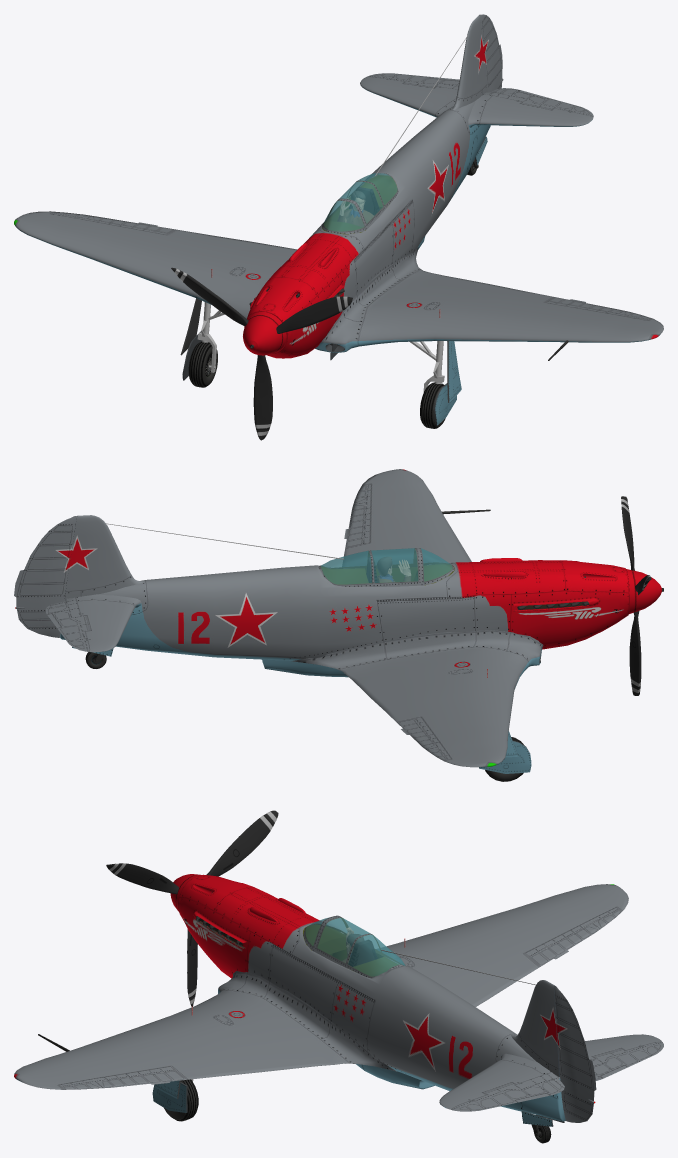
File: yak3.glb
3 renders of one model, top to bottom at view 1: azimuth 30°, elevation 25°; view 2: azimuth 150°, elevation 25°; view 3: azimuth 270°, elevation 25°, orthographic. The views are drawn at different scales.
Parts seen in each view (by area): view 1: LinePP05-FACES, Line_J-FACES, LineTT10-FACES, LineTT11-FACES, Line39-FACES, Line01-FACES, Object02-FACES, Sphere01-FACES, Line05-FACES, Line30-FACES, Object01-FACES, Line29-FACES (+3 smaller); view 2: Line_J-FACES, LinePP05-FACES, Object01-FACES, Line39-FACES (×2), Object02-FACES, LineTT11-FACES, Line01-FACES, Sphere01-FACES, Line06-FACES, Line05-FACES, Object05-FACES, Plane13-FACES (+1 smaller); view 3: LinePP05-FACES, Line_J-FACES, LineTT10-FACES, Line39-FACES (×2), Object01-FACES, Line01-FACES, Object02-FACES, LineTT11-FACES, Line29-FACES, Line30-FACES, Line06-FACES, Line05-FACES (+2 smaller).
Part boxes in pixels (x1,y1,x2,y2): LinePP05-FACES: [14, 211, 663, 352]; Line_J-FACES: [244, 92, 490, 358]; LineTT10-FACES: [468, 88, 593, 127]; LineTT11-FACES: [360, 73, 459, 117]; Line39-FACES: [324, 173, 397, 231]; Line01-FACES: [324, 173, 396, 231]; Object02-FACES: [452, 15, 487, 110]; Sphere01-FACES: [243, 312, 286, 355]; Line05-FACES: [253, 355, 272, 440]; Line30-FACES: [276, 296, 352, 333]; Object01-FACES: [479, 14, 502, 92]; Line29-FACES: [171, 267, 248, 326]; Line_J-FACES: [60, 558, 629, 660]; LinePP05-FACES: [291, 469, 543, 767]; Object01-FACES: [14, 516, 76, 637]; Line39-FACES (×2): [318, 548, 454, 586]; Object02-FACES: [64, 515, 144, 598]; LineTT11-FACES: [45, 594, 141, 652]; Line01-FACES: [321, 548, 451, 583]; Sphere01-FACES: [626, 569, 661, 613]; Line06-FACES: [262, 659, 348, 677]; Line05-FACES: [629, 611, 641, 695]; Object05-FACES: [479, 740, 531, 773]; Plane13-FACES: [513, 596, 600, 611]; LinePP05-FACES: [14, 884, 628, 1089]; Line_J-FACES: [178, 874, 565, 1121]; LineTT10-FACES: [439, 1053, 564, 1111]; Line39-FACES (×2): [303, 915, 405, 978]; Object01-FACES: [554, 986, 596, 1122]; Line01-FACES: [306, 918, 404, 976]; Object02-FACES: [511, 980, 559, 1076]; LineTT11-FACES: [585, 1034, 663, 1080]; Line29-FACES: [206, 810, 278, 876]; Line30-FACES: [106, 863, 178, 894]; Line06-FACES: [356, 1064, 434, 1089]; Line05-FACES: [187, 929, 197, 1006].
Bounding box in the file's own units: 7.7 × 3.33 × 7.89.
Materials: 79 (48 with a texture image).
